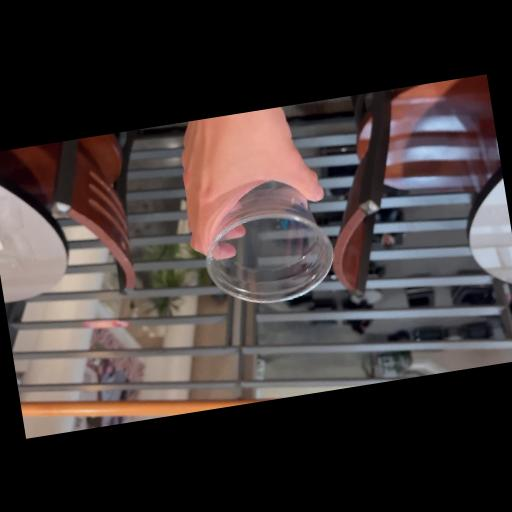lp_plastic_cup: (196, 180, 335, 312)
